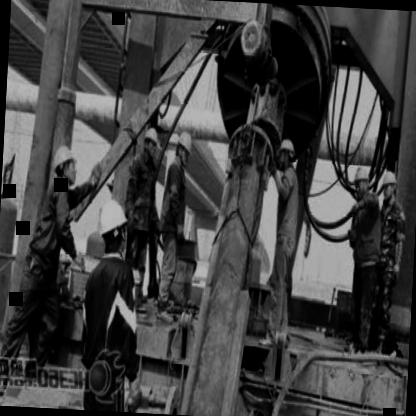helmet: (99, 194, 130, 260), (51, 141, 78, 186), (274, 136, 298, 176), (172, 127, 194, 169), (350, 164, 372, 200), (380, 165, 398, 207), (140, 124, 160, 160)
